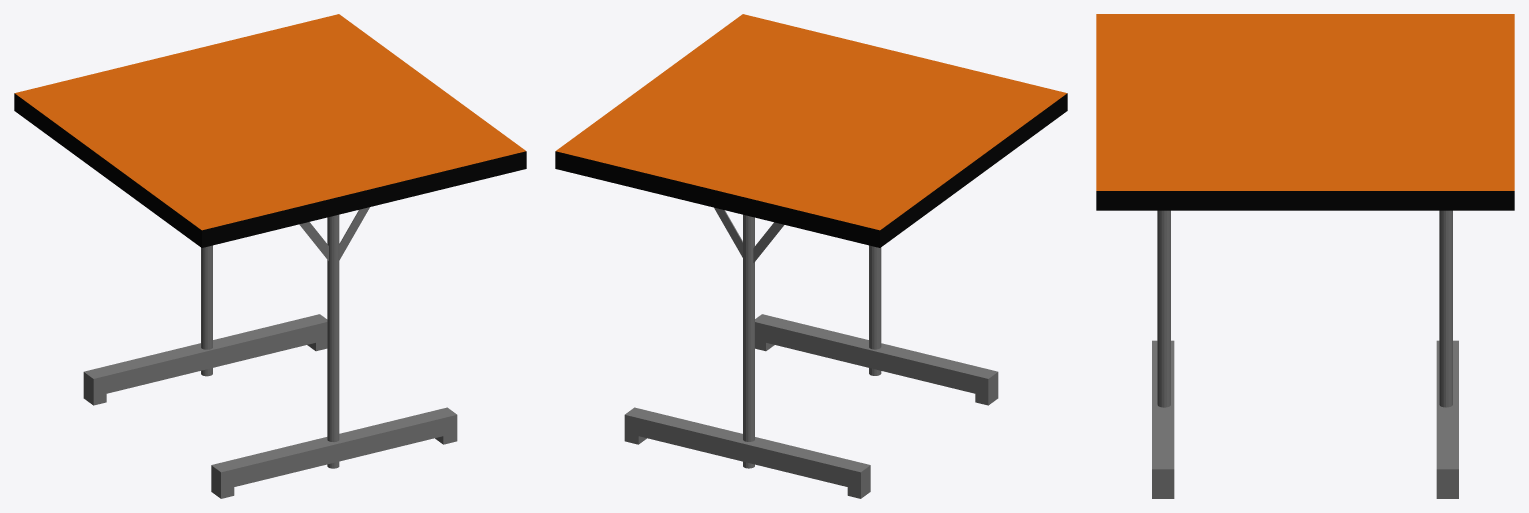
Rendered from Table.fbx.
The picture shows the model from 3 angles, left to right: view 1: azimuth 30°, elevation 25°; view 2: azimuth 150°, elevation 25°; view 3: azimuth 270°, elevation 25°; orthographic projection. The views are drawn at different scales.
Parts seen in each view (by area): view 1: table, leg, leg.001; view 2: table, leg.001, leg; view 3: table, leg, leg.001.
Part boxes in pixels (bbox=[...]): table: bbox=[14, 14, 526, 247]; leg: bbox=[211, 207, 457, 498]; leg.001: bbox=[83, 245, 327, 405]; table: bbox=[555, 14, 1067, 247]; leg.001: bbox=[624, 207, 870, 498]; leg: bbox=[755, 245, 998, 405]; table: bbox=[1096, 14, 1514, 210]; leg: bbox=[1152, 210, 1174, 498]; leg.001: bbox=[1436, 210, 1458, 498].
Size of the model in its own units: 357 by 313 by 357.
